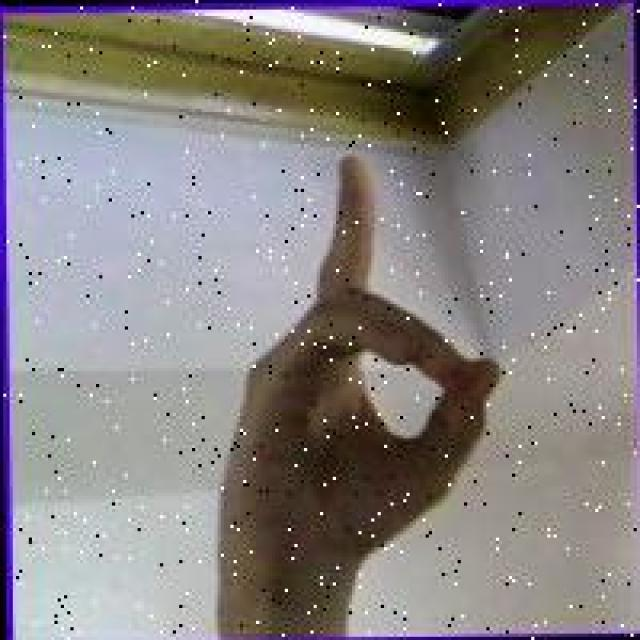D: (210, 144, 504, 586)
